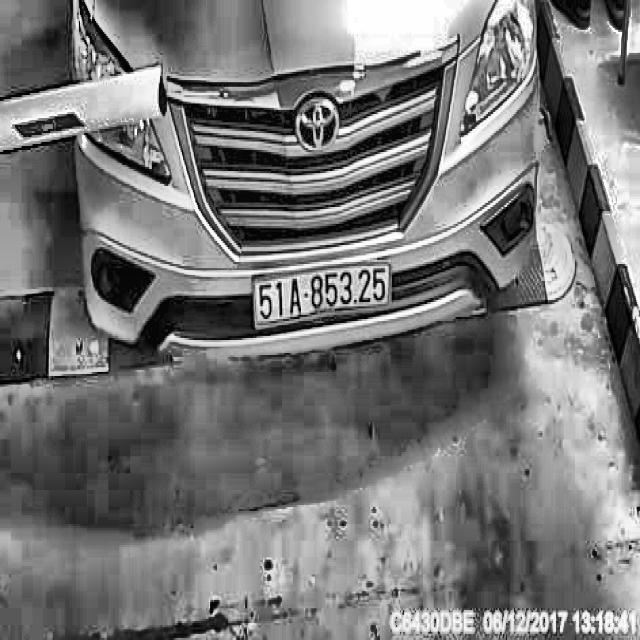plate: (248, 252, 400, 334)
